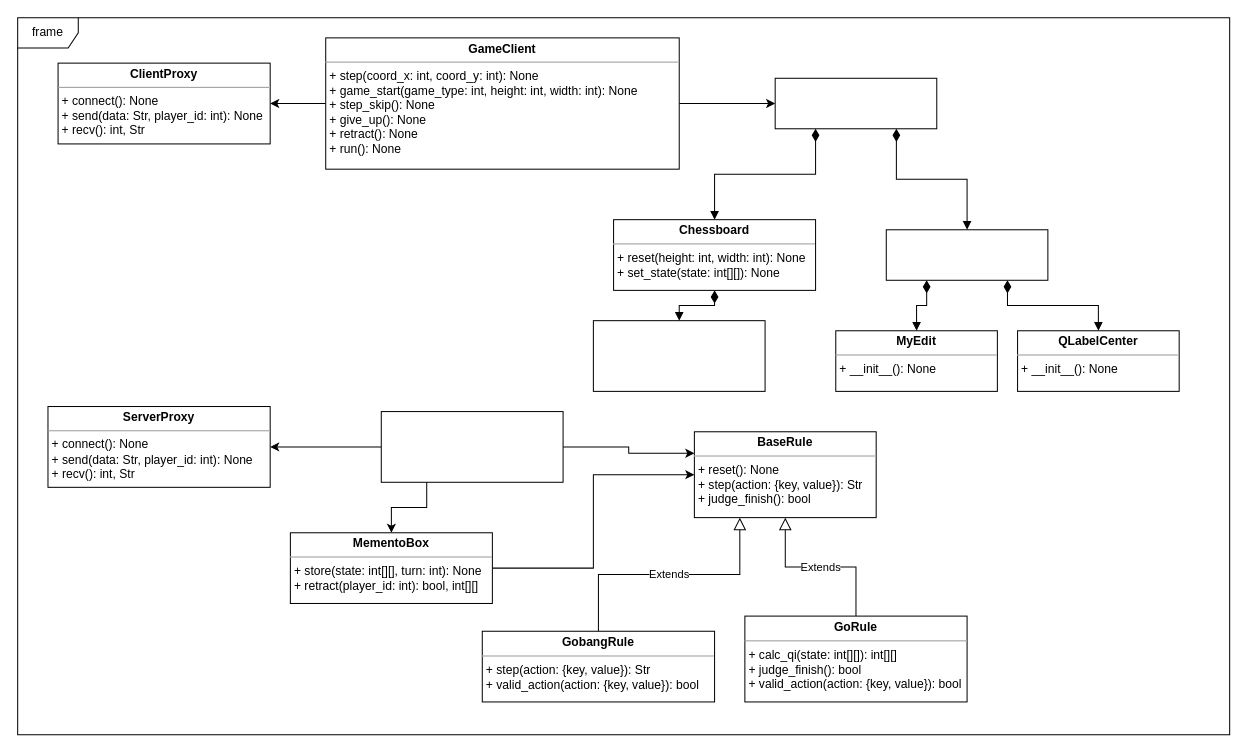
Image size: 1247x752. Some labels were removed from this diagram. The centre of each missing label's shape, as x and y in pixels:
"GameServer + game_loop(): {key, value} + main_loop(): None" goes at (471,446).
"Grid + set_state(state: int[][]): None + mousePressEvent(): None" goes at (678,355).
"MainWindow + init_ui(): None" goes at (855,103).
"Menu + init_ui(): None" goes at (966,254).
